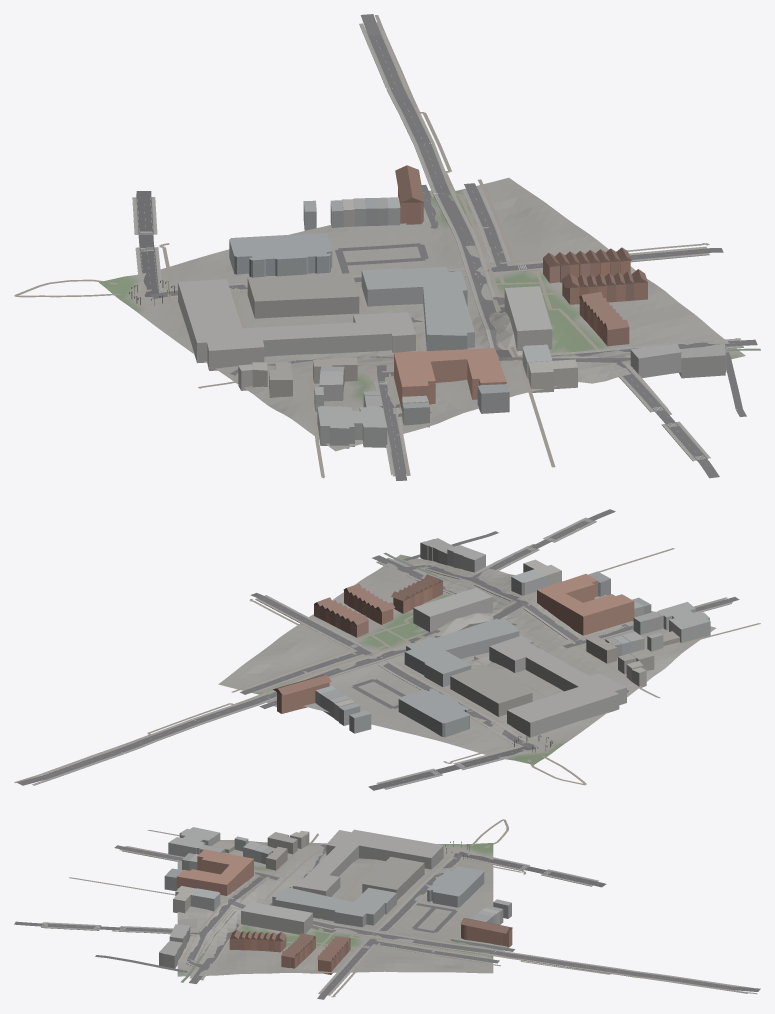
The model's file is tile_0_-4.glb.
3 renders of one model, top to bottom at view 1: azimuth 30°, elevation 25°; view 2: azimuth 150°, elevation 25°; view 3: azimuth 270°, elevation 25°, orthographic. The views are drawn at different scales.
Parts seen in each view (by area): view 1: buildings, terrain, roads, sidewalks, paths; view 2: buildings, terrain, roads, sidewalks, paths; view 3: buildings, terrain, roads, sidewalks, paths.
Part boxes in pixels (x1,y1,x2,y2): buildings: (178,165,726,448); terrain: (99,177,745,451); roads: (136,14,757,480); sidewalks: (132,22,743,474); paths: (14,15,760,478); buildings: (273,538,710,737); terrain: (218,554,716,764); roads: (17,509,739,790); sidewalks: (31,517,731,789); paths: (14,544,760,785); buildings: (159,827,512,974); terrain: (177,840,493,976); roads: (14,844,760,999); sidewalks: (41,846,752,995); paths: (69,819,757,997).
Bounding box in the file's own units: 357 × 21.36 × 606.
